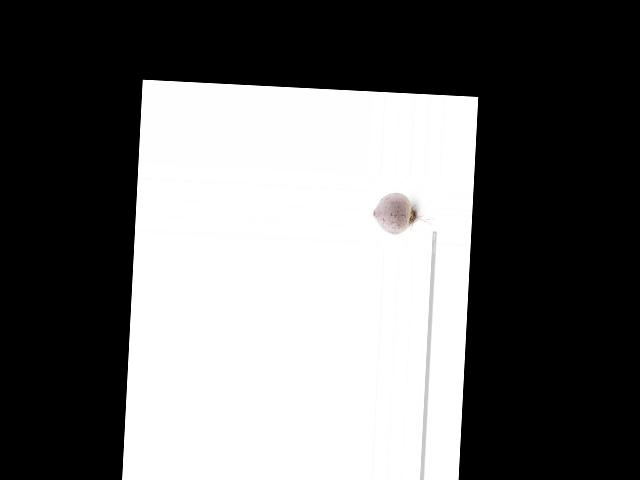beet: (371, 191, 436, 237)
